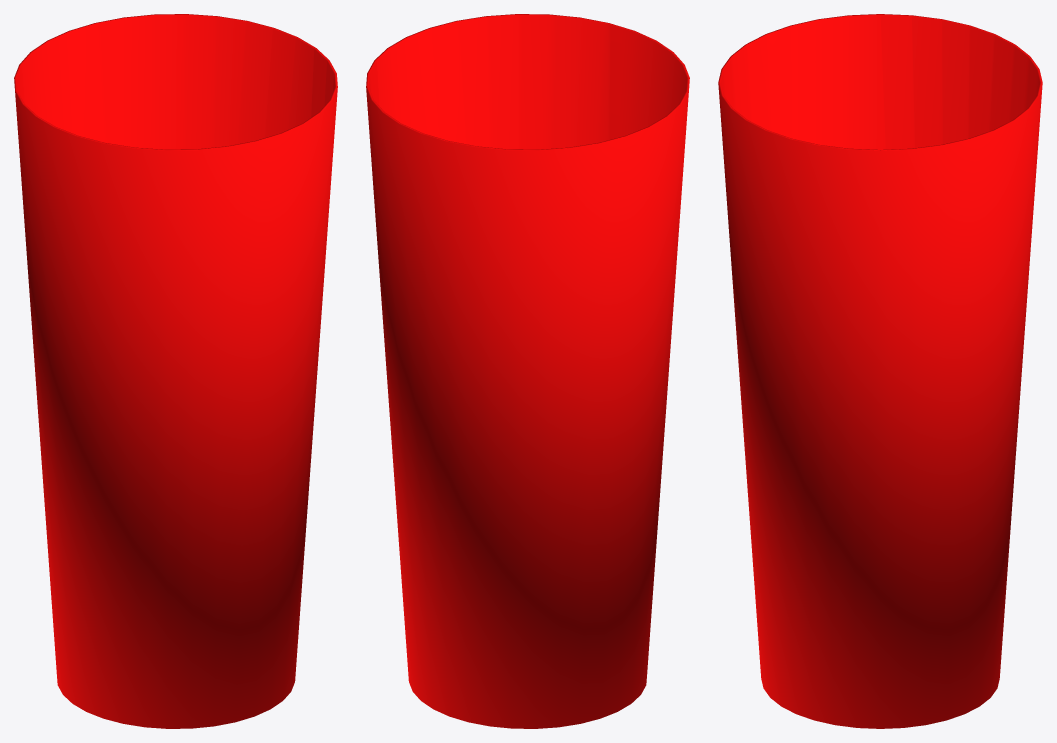
The model's file is red_cup.glb.
3 renders of one model, left to right at view 1: azimuth 30°, elevation 25°; view 2: azimuth 150°, elevation 25°; view 3: azimuth 270°, elevation 25°, orthographic.
Visible parts, largest first — view 1: Cylinder_Cylinder.003; view 2: Cylinder_Cylinder.003; view 3: Cylinder_Cylinder.003.
Boxes of the visible parts, x1,y1,x2,y2 form: Cylinder_Cylinder.003: [14, 14, 337, 728]; Cylinder_Cylinder.003: [366, 14, 689, 728]; Cylinder_Cylinder.003: [718, 14, 1042, 728].
Bounding box in the file's own units: 2.13 × 4.31 × 2.13.
